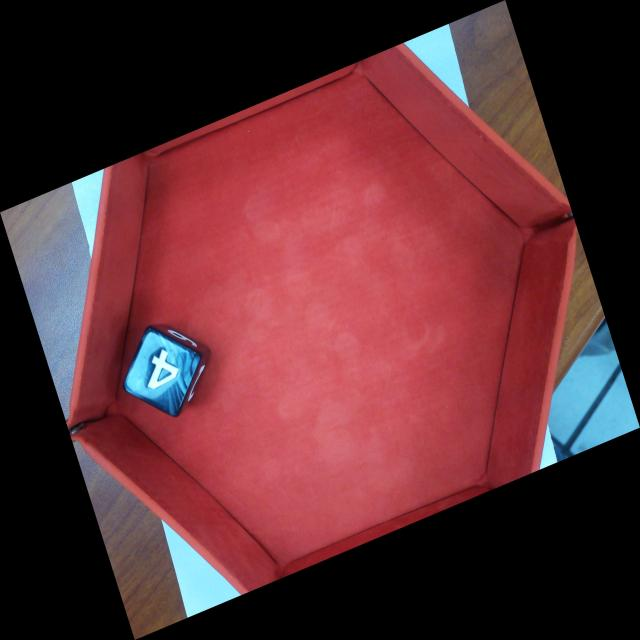dice: (123, 327, 205, 419)
